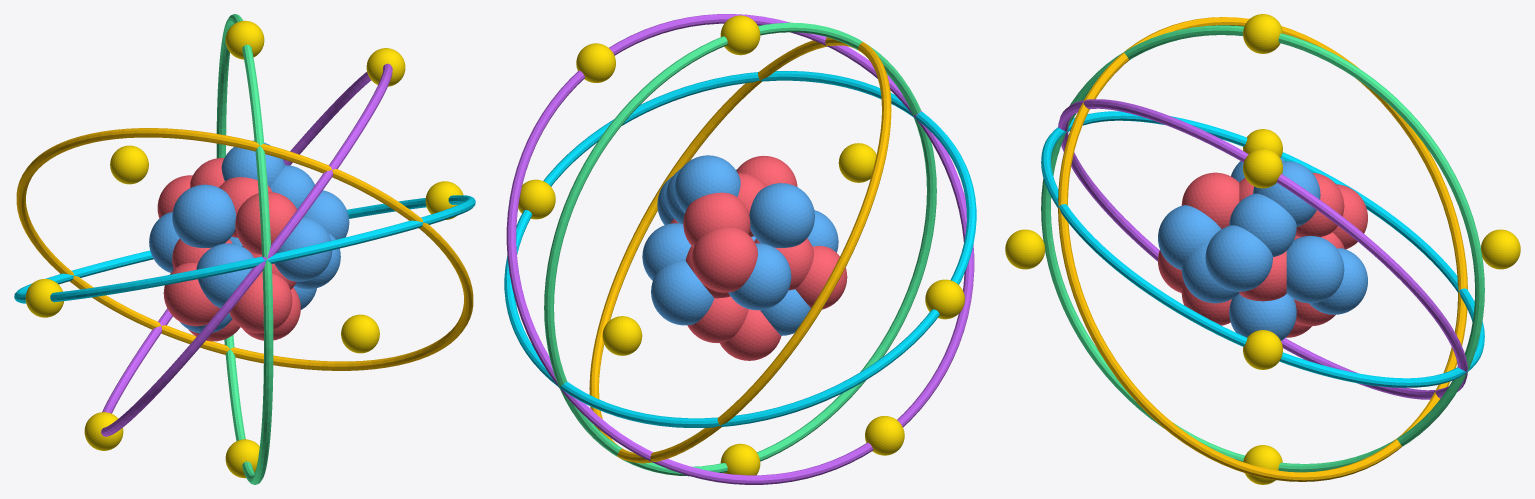
Rendered from modelo.glb.
The picture shows the model from 3 angles, left to right: view 1: azimuth 30°, elevation 25°; view 2: azimuth 150°, elevation 25°; view 3: azimuth 270°, elevation 25°; orthographic projection. The views are drawn at different scales.
Parts seen in each view (by area): view 1: orbita_3, orbita_2, orbita_1, orbita_0, nucleon_11, nucleon_20, nucleon_19, nucleon_18, nucleon_24, nucleon_15, nucleon_25, nucleon_23 (+16 smaller); view 2: orbita_2, orbita_1, orbita_0, orbita_3, nucleon_11, nucleon_22, nucleon_21, nucleon_1, nucleon_25, nucleon_4, nucleon_26, nucleon_3 (+15 smaller); view 3: orbita_3, orbita_1, orbita_0, orbita_2, nucleon_23, nucleon_3, nucleon_13, nucleon_19, nucleon_7, nucleon_18, nucleon_25, nucleon_21 (+14 smaller).
Part boxes in pixels (<box>): orbita_3: <box>16,128,473,370</box>; orbita_2: <box>101,63,392,436</box>; orbita_1: <box>216,14,273,484</box>; orbita_0: <box>14,195,475,303</box>; nucleon_11: <box>172,184,236,248</box>; nucleon_20: <box>229,271,292,333</box>; nucleon_19: <box>274,216,332,281</box>; nucleon_18: <box>235,191,296,254</box>; nucleon_24: <box>163,263,220,326</box>; nucleon_15: <box>196,243,253,307</box>; nucleon_25: <box>221,140,284,186</box>; nucleon_23: <box>304,190,349,239</box>; orbita_2: <box>506,14,974,484</box>; orbita_1: <box>544,22,936,476</box>; orbita_0: <box>504,71,976,427</box>; orbita_3: <box>589,37,891,463</box>; nucleon_11: <box>749,183,814,247</box>; nucleon_22: <box>692,227,757,292</box>; nucleon_21: <box>651,261,714,325</box>; nucleon_1: <box>728,243,791,310</box>; nucleon_25: <box>674,155,740,212</box>; nucleon_4: <box>683,192,750,247</box>; nucleon_26: <box>719,309,781,360</box>; nucleon_3: <box>642,223,691,280</box>; orbita_3: <box>1058,17,1467,481</box>; orbita_1: <box>1041,25,1484,472</box>; orbita_0: <box>1041,111,1484,387</box>; orbita_2: <box>1058,99,1467,399</box>; nucleon_23: <box>1205,225,1272,291</box>; nucleon_3: <box>1286,236,1344,303</box>; nucleon_13: <box>1229,193,1296,256</box>; nucleon_19: <box>1158,205,1221,269</box>; nucleon_7: <box>1229,294,1296,340</box>; nucleon_18: <box>1181,172,1239,228</box>; nucleon_25: <box>1253,161,1320,226</box>; nucleon_21: <box>1309,248,1367,314</box>.
Bounding box in the file's own units: 0.412 × 0.412 × 0.412.
